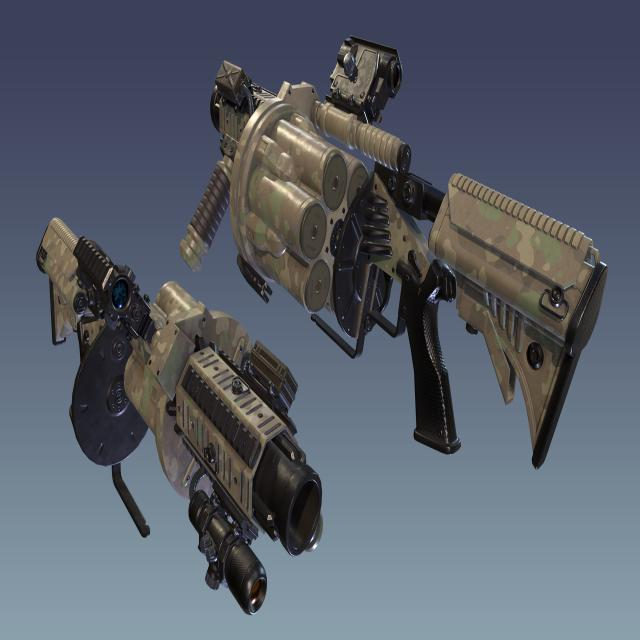Weapon: (190, 23, 612, 473), (32, 214, 335, 624)
